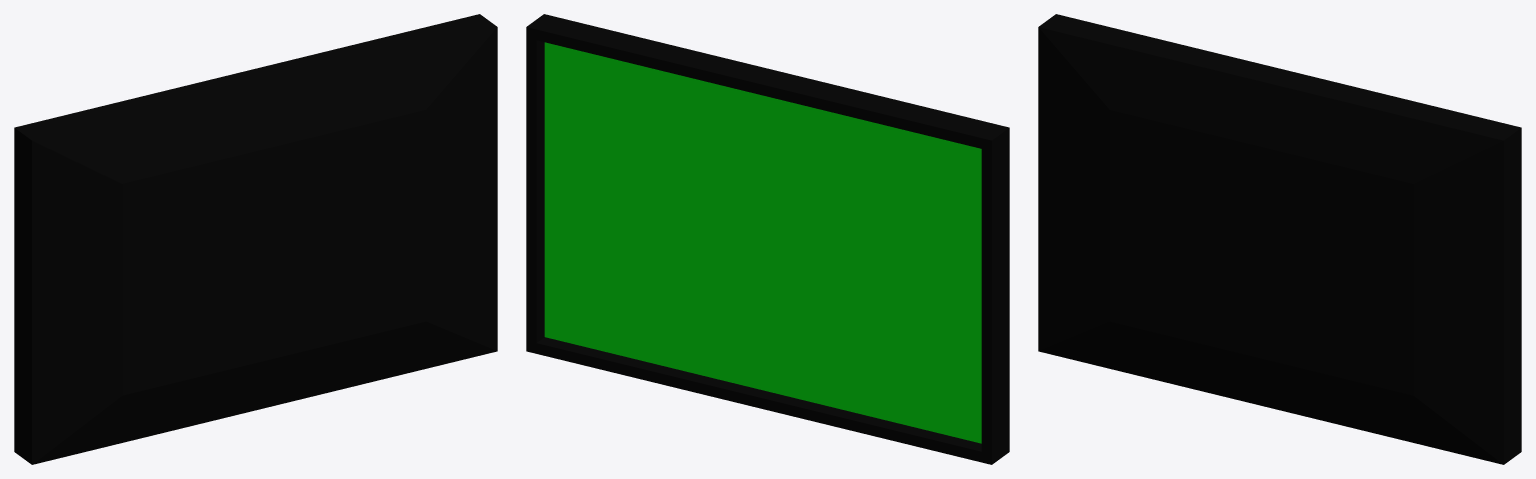
3 views of the same model, side by side, from view 1: azimuth 30°, elevation 25°; view 2: azimuth 150°, elevation 25°; view 3: azimuth 330°, elevation 25° (orthographic).
Parts seen in each view (by area): view 1: TV; view 2: TV; view 3: TV.
Part boxes in pixels (x1,y1,x2,y2): TV: [14, 14, 497, 464]; TV: [526, 14, 1009, 464]; TV: [1038, 14, 1521, 464].
Size of the model in its own units: 185 by 123 by 18.72.
